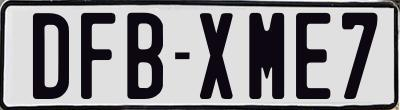7: (340, 10, 379, 96)
B: (125, 12, 166, 100)
D: (32, 12, 71, 102)
E: (296, 12, 334, 103)
F: (79, 10, 118, 100)
M: (246, 10, 281, 96)
X: (197, 11, 236, 103)
